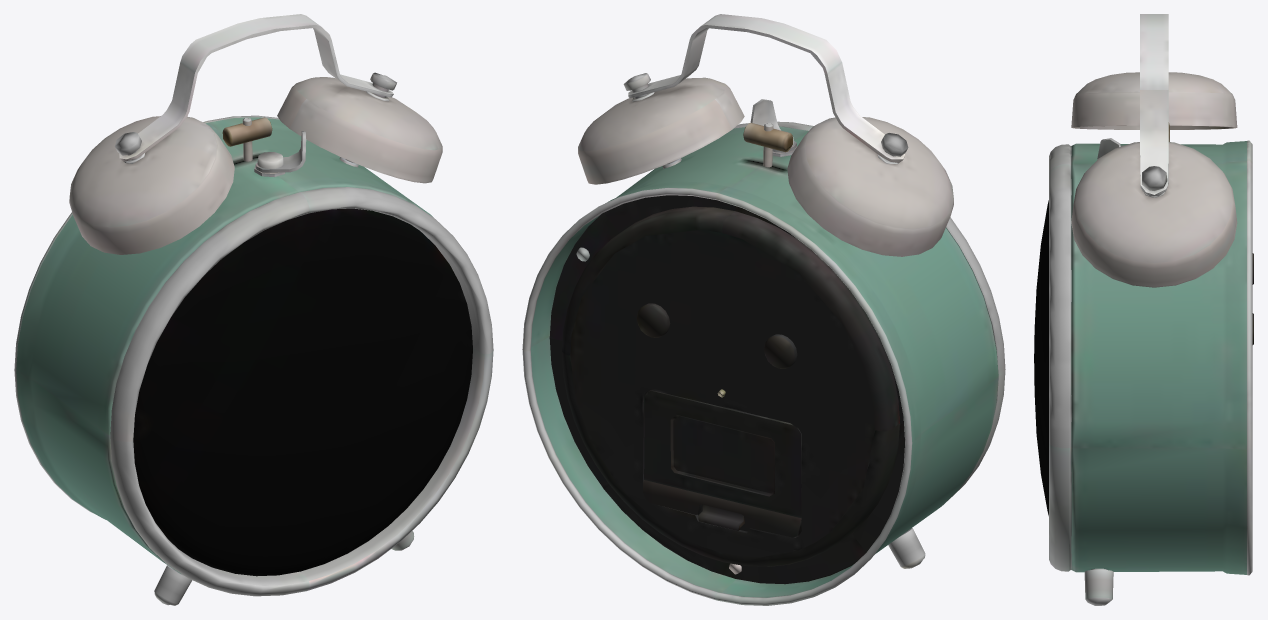
The model's file is ph_alarm_clock_01.glb.
3 renders of one model, left to right at view 1: azimuth 30°, elevation 25°; view 2: azimuth 150°, elevation 25°; view 3: azimuth 270°, elevation 25°, orthographic. The views are drawn at different scales.
Parts seen in each view (by area): view 1: alarm_clock_01; view 2: alarm_clock_01; view 3: alarm_clock_01.
Boxes of the visible parts, left/top/right/bottom form: alarm_clock_01: left=14, top=14, right=493, bottom=605; alarm_clock_01: left=522, top=14, right=1005, bottom=605; alarm_clock_01: left=1034, top=14, right=1253, bottom=605.
Bounding box in the file's own units: 0.1317 × 0.1741 × 0.0664.
2 materials, 2 textured.
